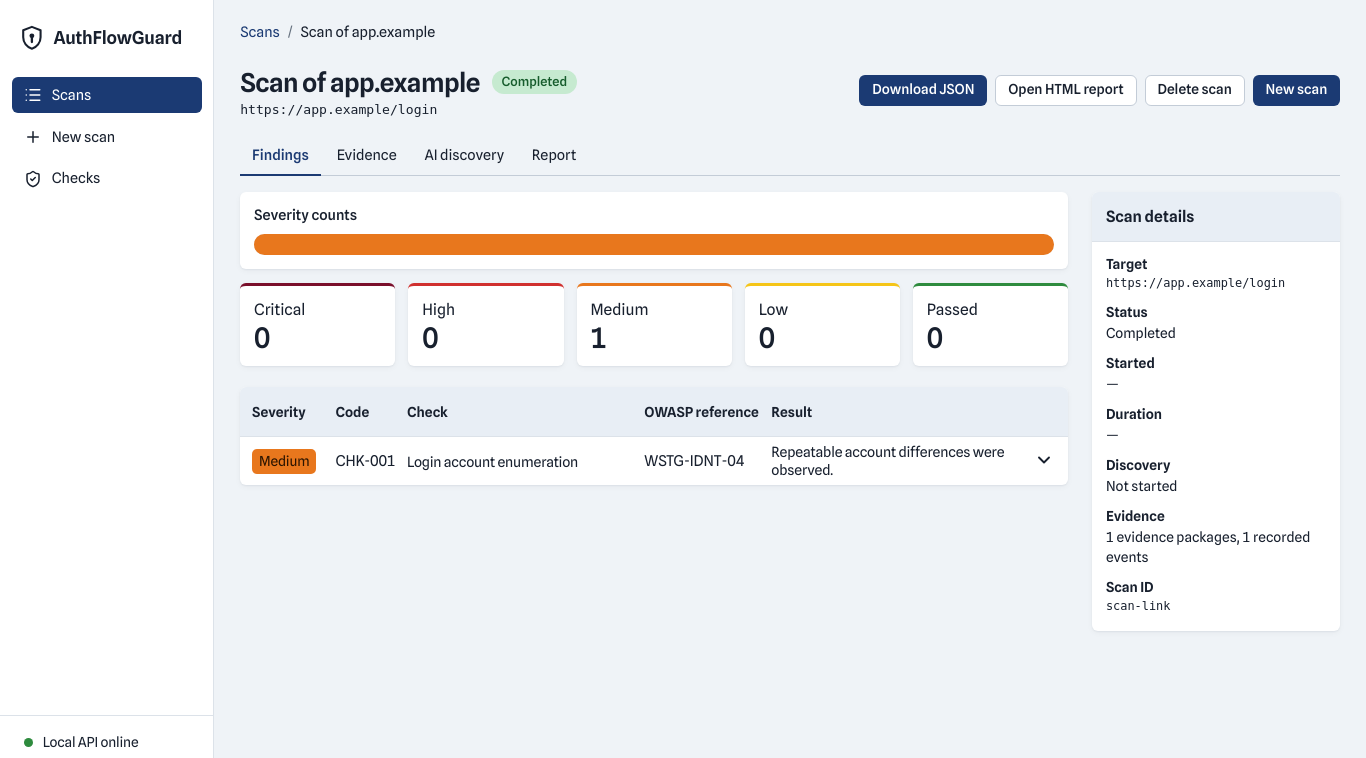
Test: check reference › a finding links to how its check works
The width and height of the screenshot is (1366, 758).
Click the button named "Details for CHK-001 Login account enumeration".
click(1044, 460)  # box [1030, 446, 1059, 475]
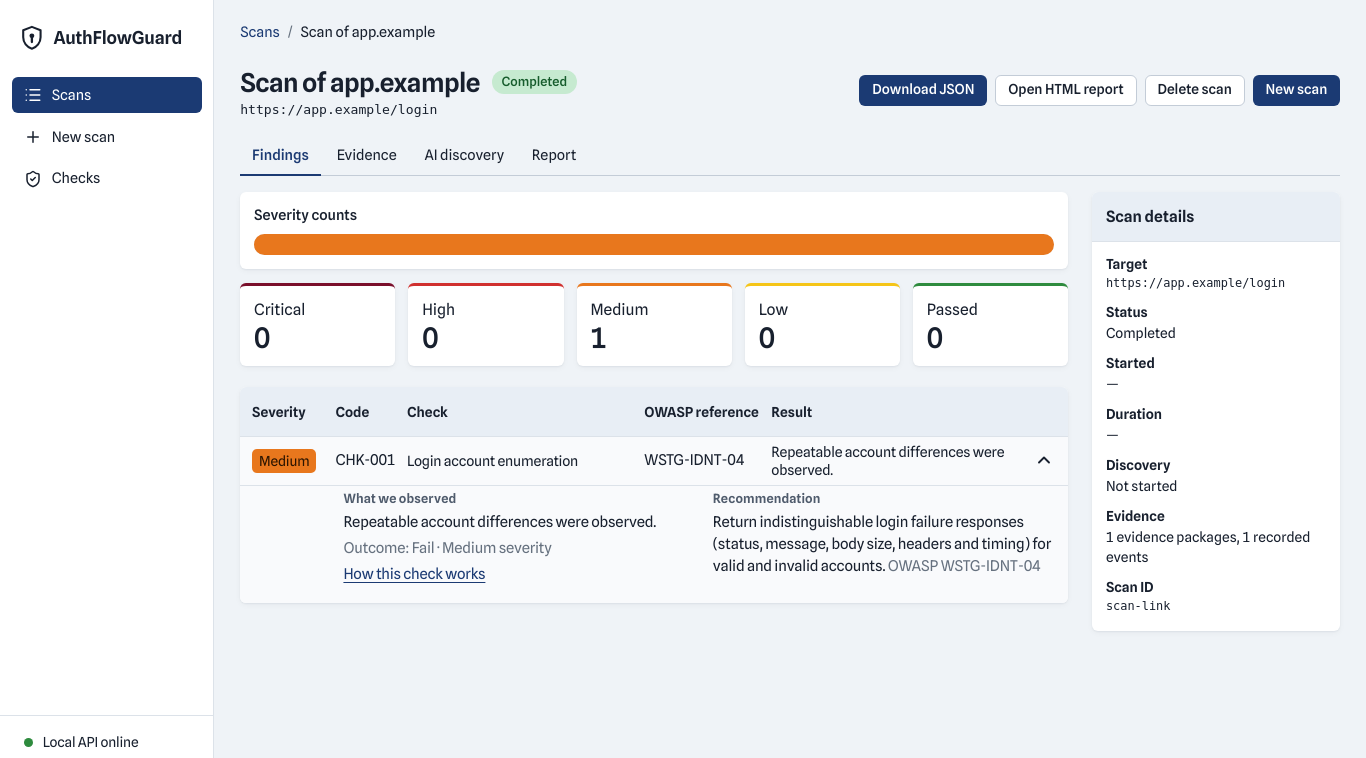
Click the link "How this check works".
click(414, 574)  # box [343, 564, 485, 582]
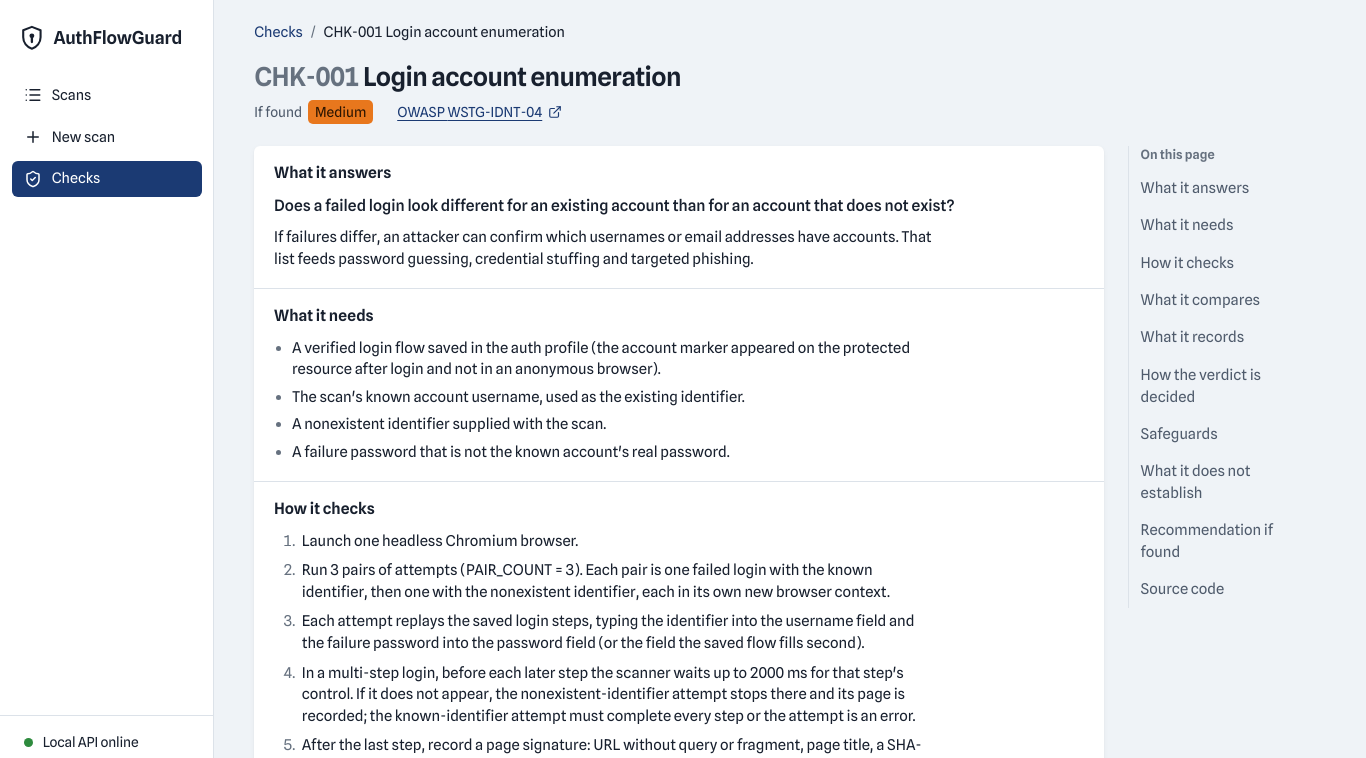
Result: the heading "CHK-001 Login account enumeration" is shown at [254, 61, 681, 92]
